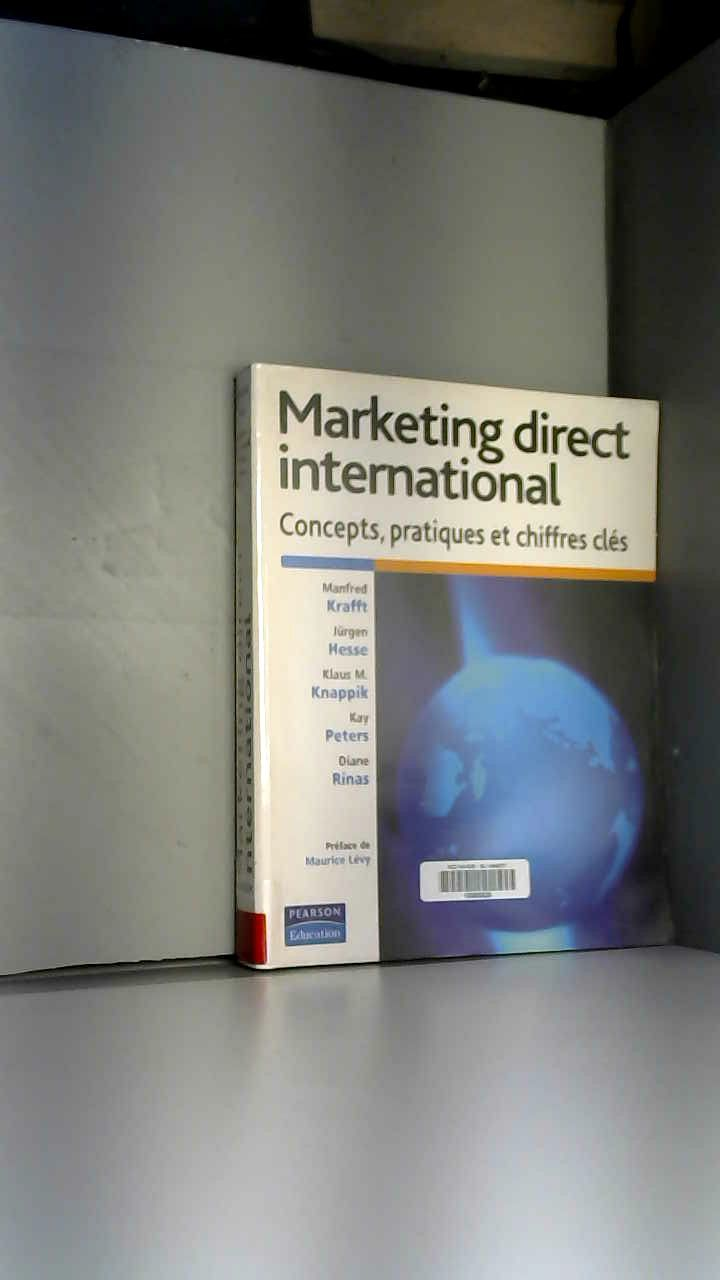book: (199, 336, 701, 1001)
